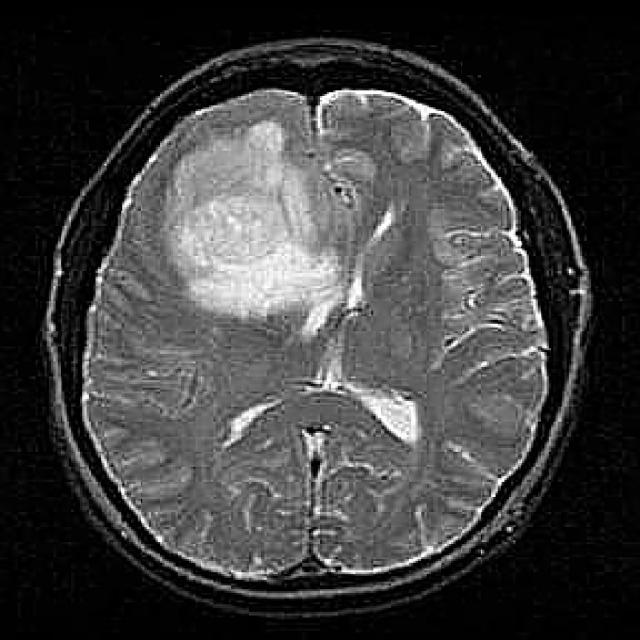Tumor-Cell: (174, 134, 359, 318)
